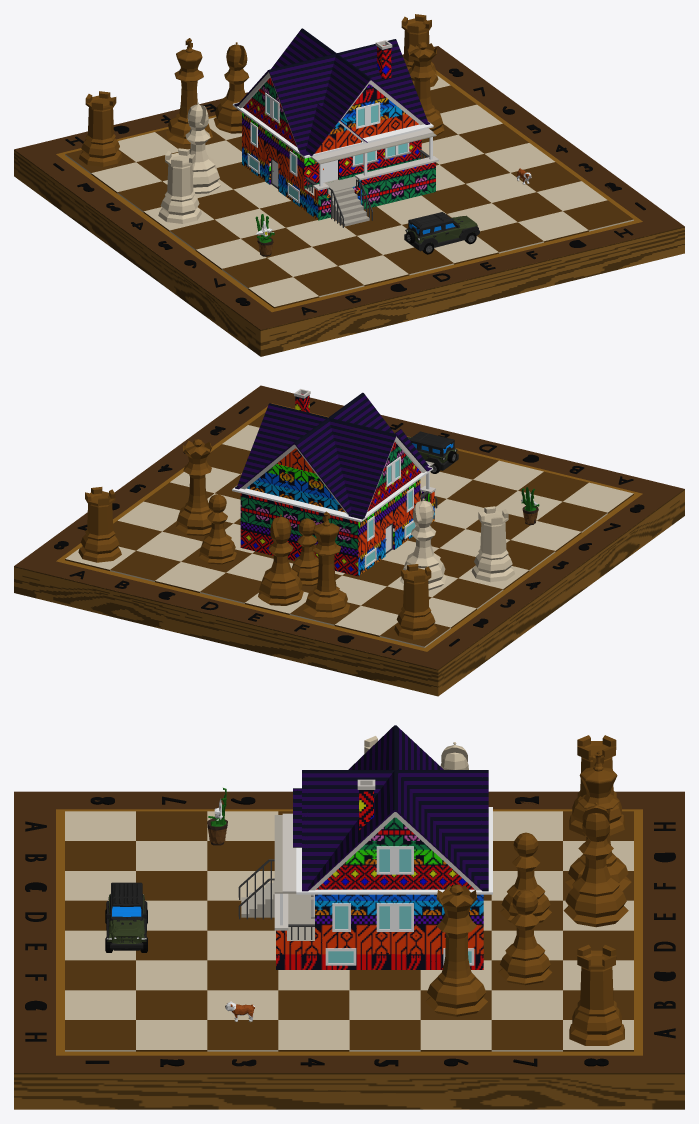
3 renders of one model, top to bottom at view 1: azimuth 30°, elevation 25°; view 2: azimuth 150°, elevation 25°; view 3: azimuth 270°, elevation 25°, orthographic. The views are drawn at different scales.
Parts seen in each view (by area): view 1: Cube.002, Cube.966, VEHICLES_JEEP, OBJRANDOM_MONJA BLANCA; view 2: Cube.002, Cube.966, VEHICLES_JEEP, OBJRANDOM_MONJA BLANCA; view 3: Cube.002, Cube.966, VEHICLES_JEEP, OBJRANDOM_MONJA BLANCA.
Boxes of the visible parts, x1,y1,x2,y2 form: Cube.002: (14,14,684,356); Cube.966: (232,28,438,227); VEHICLES_JEEP: (404,212,479,254); OBJRANDOM_MONJA BLANCA: (255,214,274,256); Cube.002: (14,385,684,696); Cube.966: (232,389,437,576); VEHICLES_JEEP: (407,431,458,473); OBJRANDOM_MONJA BLANCA: (521,487,539,525); Cube.002: (14,735,684,1109); Cube.966: (238,725,492,969); VEHICLES_JEEP: (105,882,147,952); OBJRANDOM_MONJA BLANCA: (207,788,227,845).
Size of the model in its own units: 3981 by 1484 by 4012.
47 materials, 6 textured.
